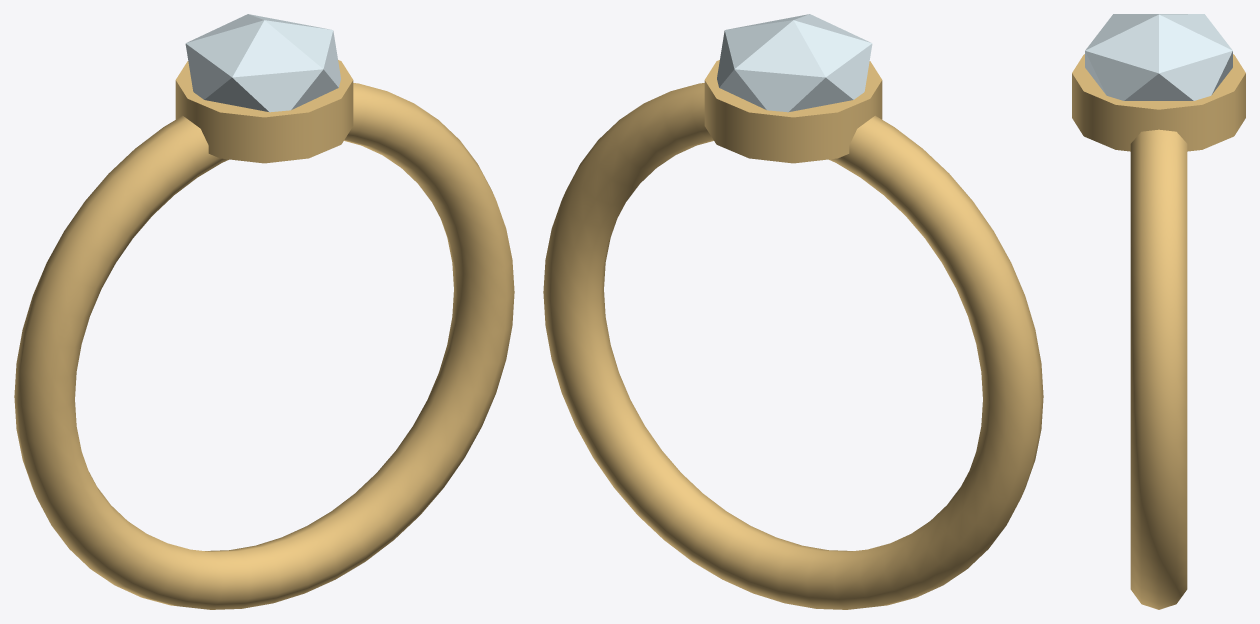
The model's file is BezelRing.fbx.
3 views of the same model, side by side, from view 1: azimuth 30°, elevation 25°; view 2: azimuth 150°, elevation 25°; view 3: azimuth 270°, elevation 25° (orthographic). The views are drawn at different scales.
Visible parts, largest first — view 1: BezelRing_Opaque; view 2: BezelRing_Opaque; view 3: BezelRing_Opaque.
Boxes of the visible parts, x1,y1,x2,y2 form: BezelRing_Opaque: (14, 14, 514, 609); BezelRing_Opaque: (543, 14, 1043, 609); BezelRing_Opaque: (1072, 14, 1245, 609).
Bounding box in the file's own units: 2.24 × 2.53 × 0.7.
